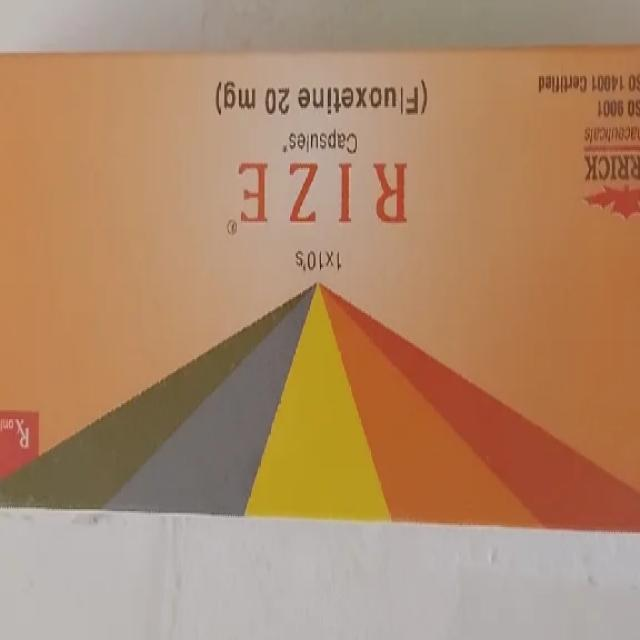drug-name: (233, 157, 412, 227)
